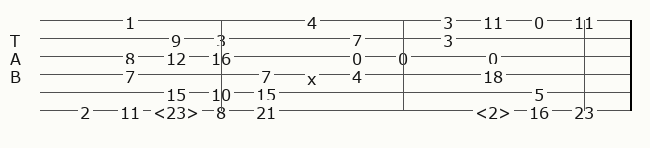0: (352, 48, 366, 64), (398, 48, 412, 64), (488, 48, 502, 64), (534, 12, 548, 28)
1: (125, 12, 139, 28)
10: (211, 84, 235, 100)
11: (120, 102, 144, 118), (483, 12, 507, 28), (574, 12, 598, 28)
12: (166, 48, 190, 64)
15: (166, 84, 190, 100), (256, 84, 280, 100)
16: (211, 48, 235, 64), (529, 102, 553, 118)
18: (483, 66, 507, 82)
2: (80, 102, 94, 118)
21: (256, 102, 280, 118)
23: (574, 102, 598, 118)
3: (216, 30, 230, 46), (443, 30, 457, 46), (443, 12, 457, 28)
4: (307, 12, 321, 28), (352, 66, 366, 82)
5: (534, 84, 548, 100)
7: (125, 66, 139, 82), (261, 66, 275, 82), (352, 30, 366, 46)
8: (125, 48, 139, 64), (216, 102, 230, 118)
9: (171, 30, 185, 46)
harmonic: (153, 102, 203, 118), (475, 102, 515, 118)
x: (307, 68, 320, 81)
